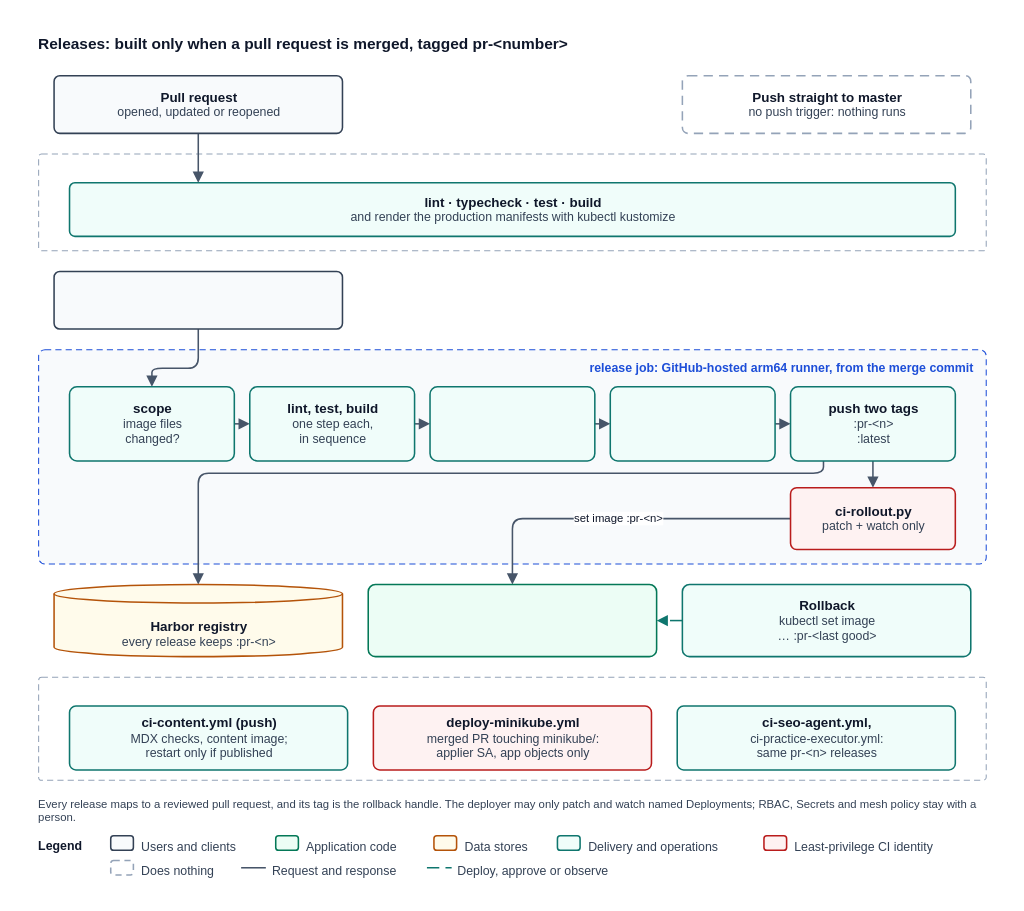
Some shapes in this 1024 by 911 pixel diagram are drawn without their labels. The box of each missing label's shape, as (x1, y1, x2, y2) in pixels:
check job (every PR update): (38, 153, 986, 251)
deploy/jithendar-com runs moks-cms:pr-<n>, the live release on record: (367, 583, 657, 657)
image size gate fails above +15 % of the baseline: (429, 386, 595, 461)
Other workflows: (38, 676, 986, 780)
PR merged into master event: closed + merged: (53, 270, 343, 329)
smoke test /api/health = SHA AVIF or WebP: (609, 386, 775, 461)
